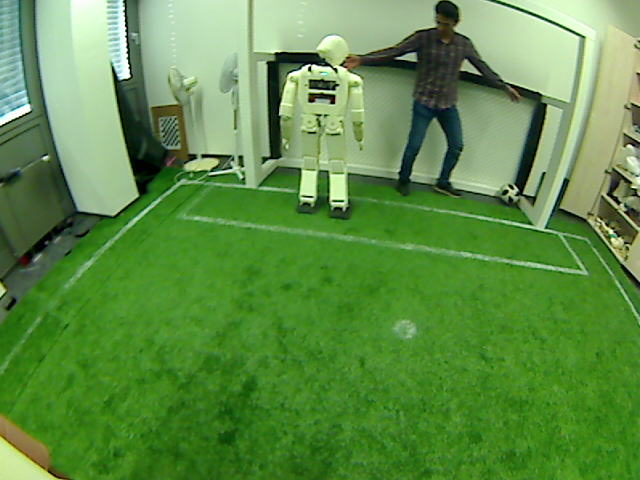ball: (498, 182, 520, 206)
goalpost: (531, 189, 550, 228), (242, 154, 259, 188)
robot: (289, 140, 355, 215)
